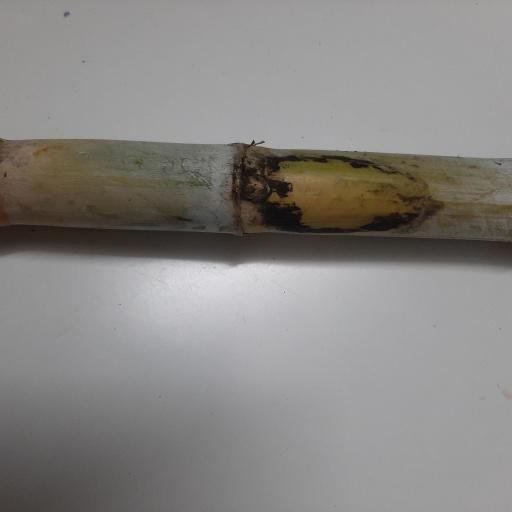Bud: (239, 173, 270, 201)
